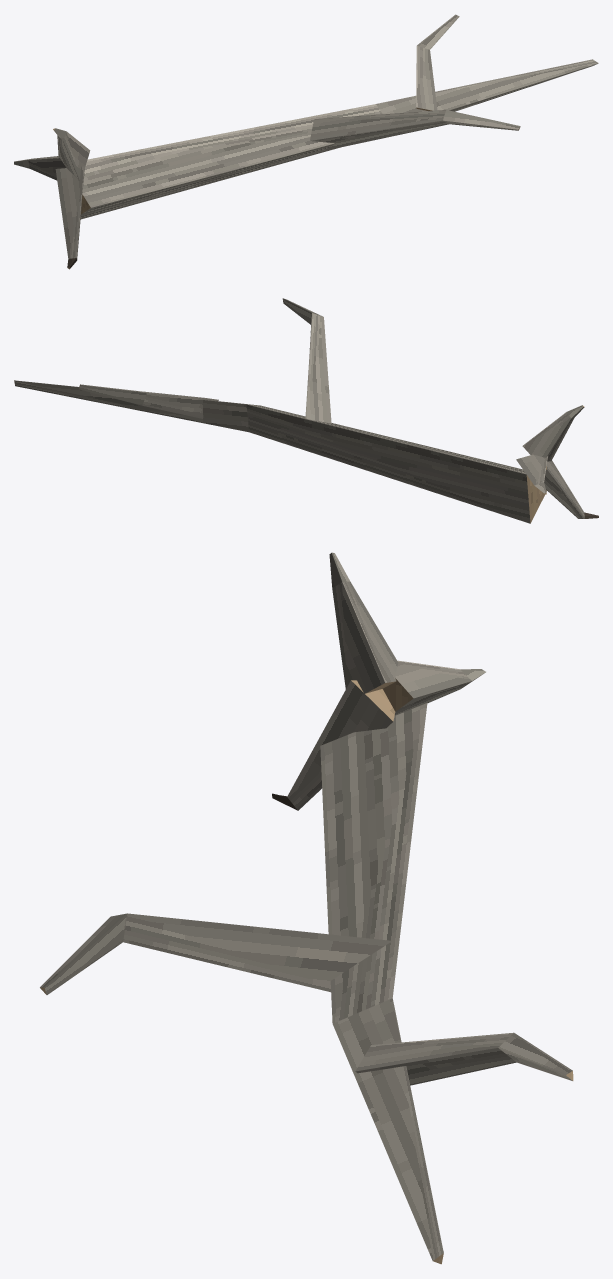
Rendered from upturned-oak-far.glb.
3 views of the same model, one above another, from view 1: azimuth 30°, elevation 25°; view 2: azimuth 150°, elevation 25°; view 3: azimuth 270°, elevation 25° (orthographic). The views are drawn at different scales.
Visible parts, largest first — view 1: upturned-oak.001; view 2: upturned-oak.001; view 3: upturned-oak.001.
Part boxes in pixels (box(x1,y1,x2,y2)): upturned-oak.001: box(14, 14, 598, 269); upturned-oak.001: box(14, 298, 598, 523); upturned-oak.001: box(40, 552, 573, 1264).
Bounding box in the file's own units: 10.31 × 2.23 × 4.36.
3 materials, 3 textured.
